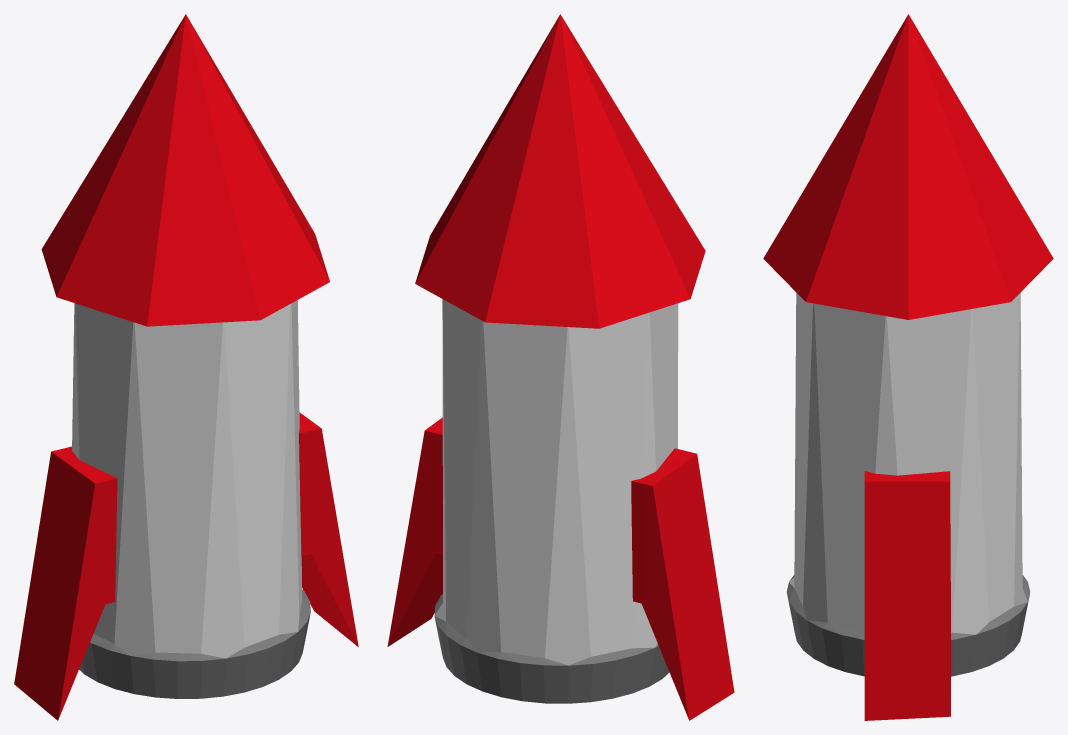
The model's file is Rocket.glb.
3 renders of one model, left to right at view 1: azimuth 30°, elevation 25°; view 2: azimuth 150°, elevation 25°; view 3: azimuth 270°, elevation 25°, orthographic. The views are drawn at different scales.
Visible parts, largest first — view 1: Cone; view 2: Cone; view 3: Cone.
Part boxes in pixels (x1,y1,x2,y2): Cone: (14, 14, 358, 720); Cone: (387, 14, 734, 720); Cone: (763, 14, 1053, 720).
Size of the model in its own units: 1.86 by 3.87 by 1.6.
